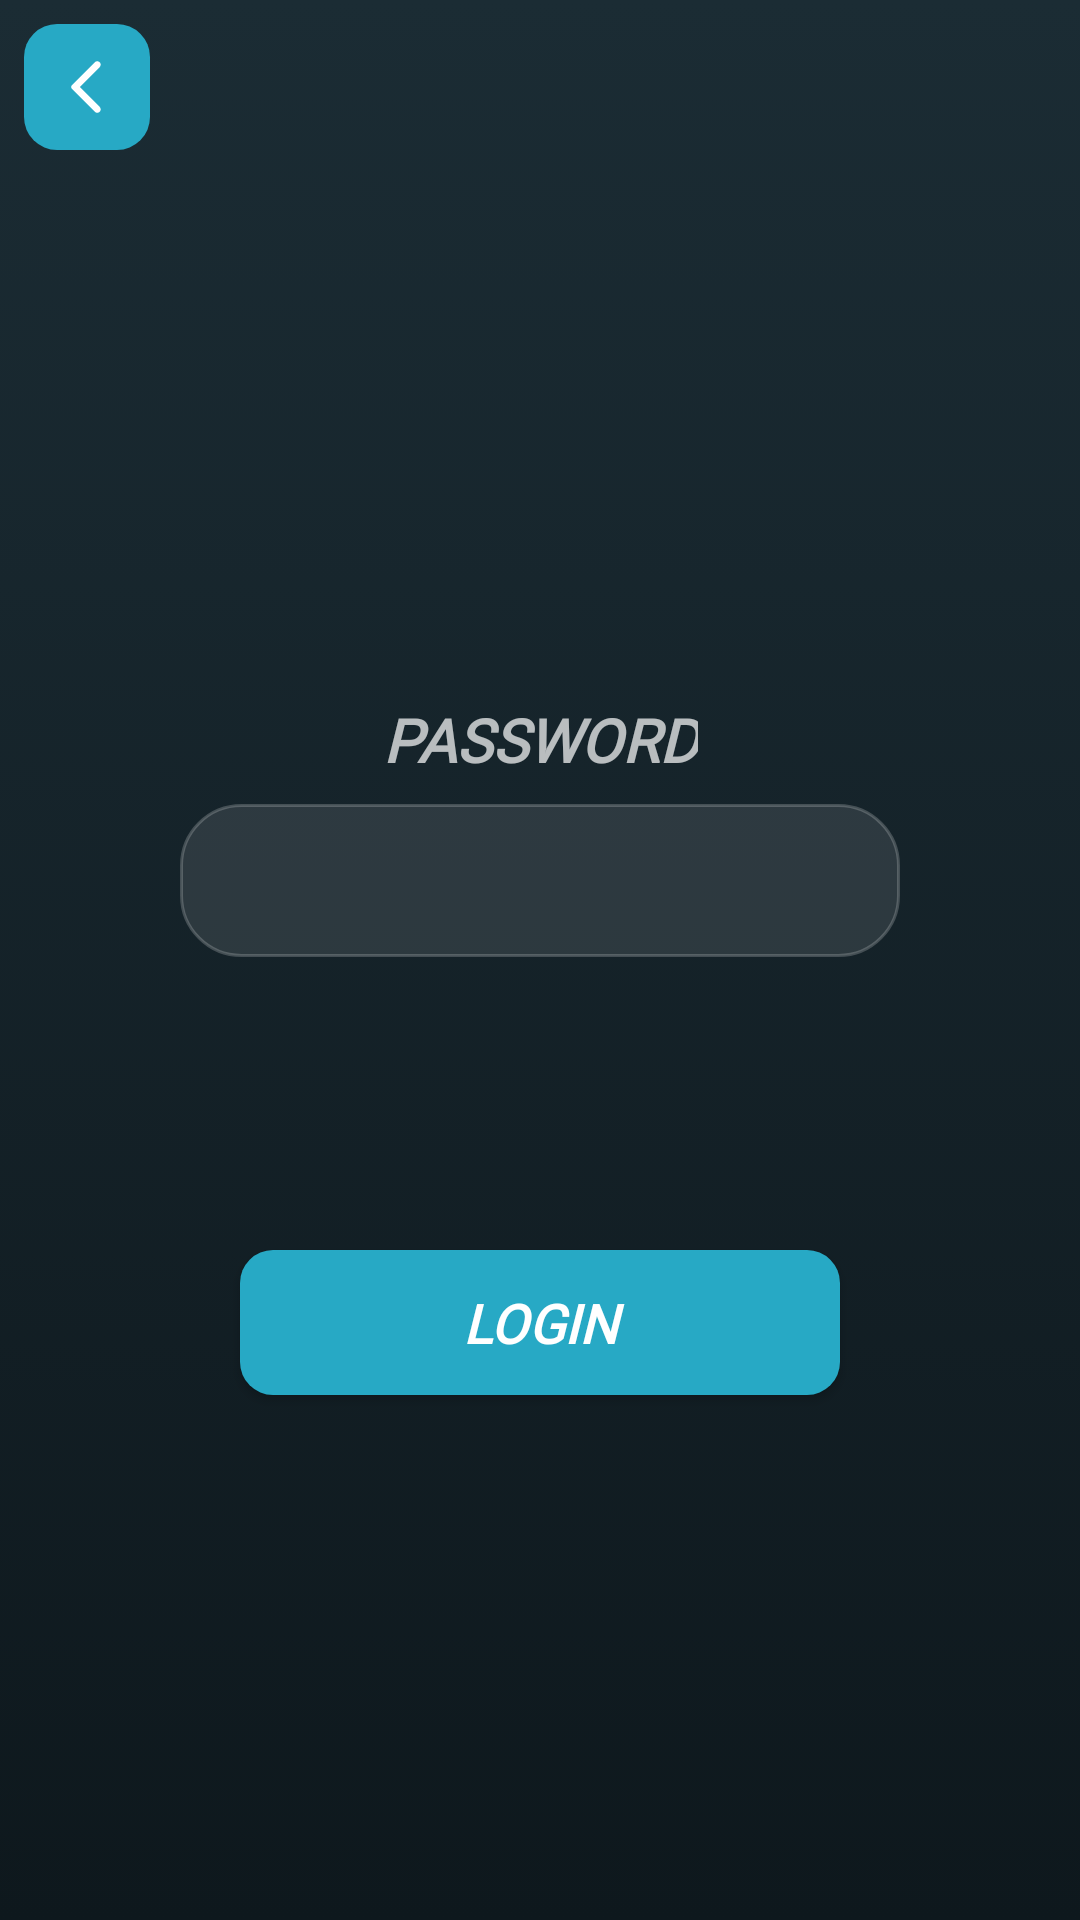

Named icons in this screenshot (1080px×1920px) and their bounding boxes, region(x1, y1, x2, y2):
BACK: region(24, 24, 150, 150)
